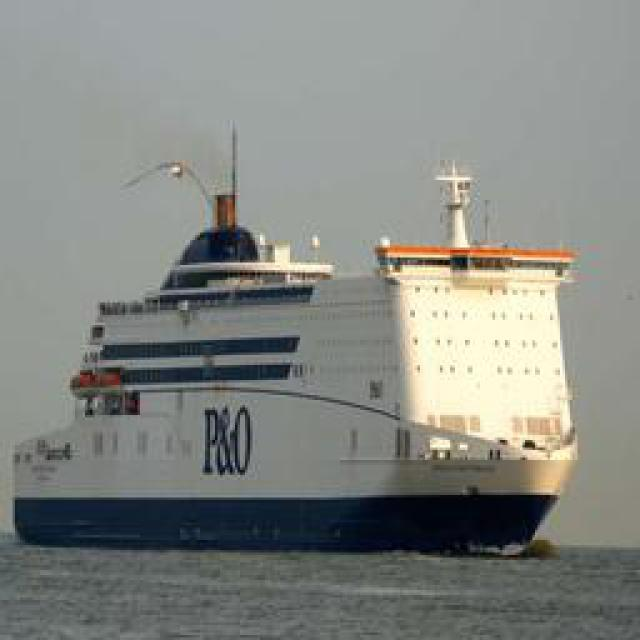Ship: (14, 140, 594, 548)
